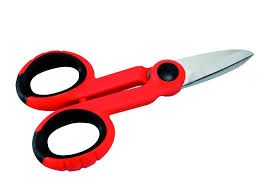tihiras: (8, 24, 260, 169)
